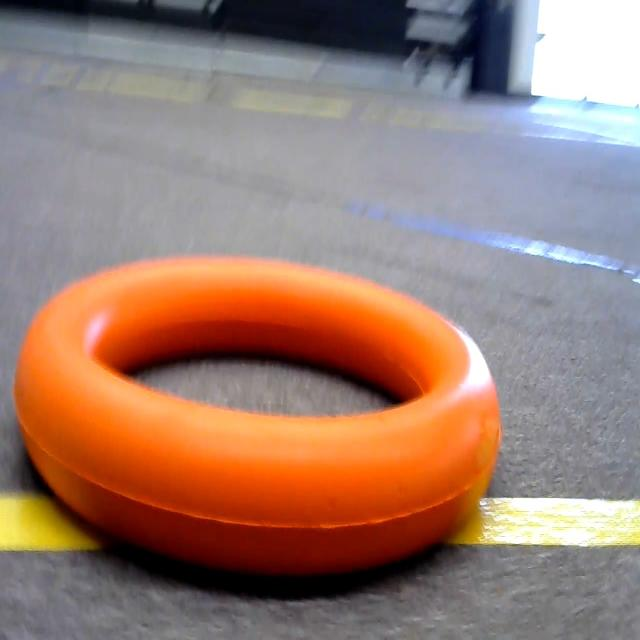note: (6, 247, 518, 580)
